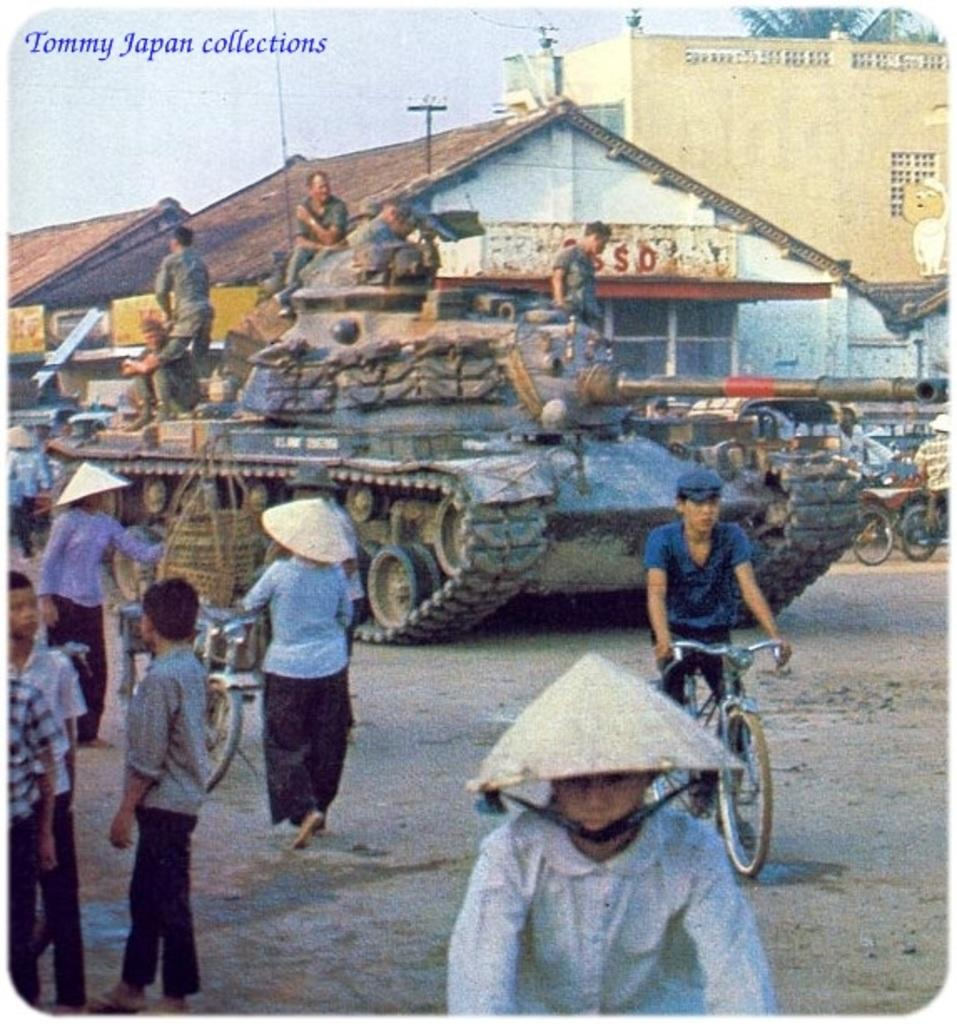Tank: (45, 27, 863, 648)
